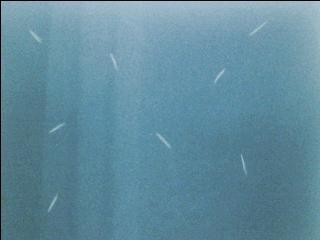scratch: (248, 17, 272, 39), (152, 130, 172, 150), (26, 26, 45, 47), (108, 50, 121, 73), (46, 191, 59, 214), (48, 121, 67, 136), (239, 151, 249, 176), (213, 67, 226, 84)
